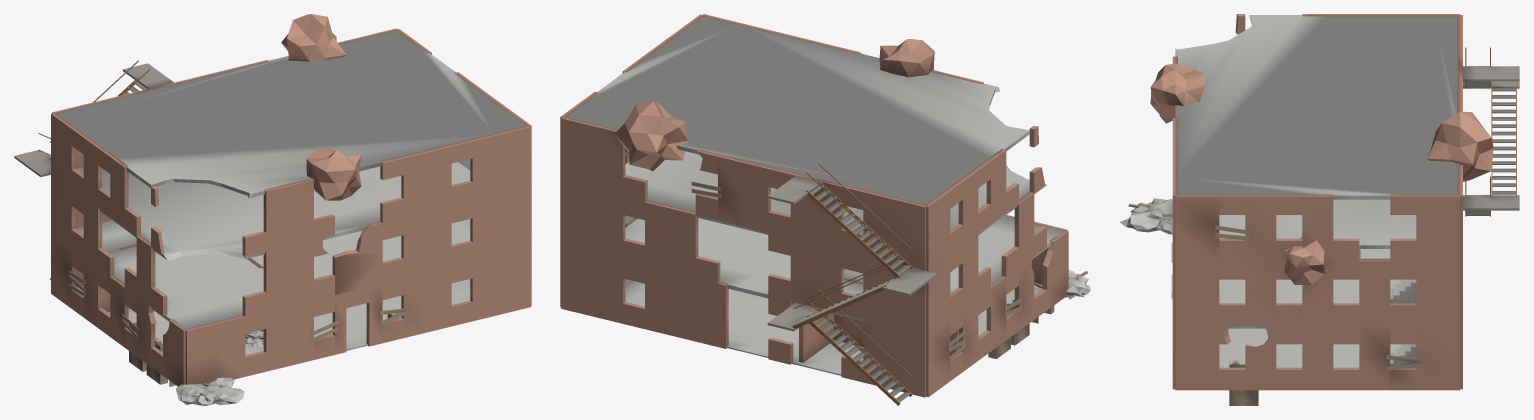
The model's file is predio_r1.glb.
3 views of the same model, side by side, from view 1: azimuth 30°, elevation 25°; view 2: azimuth 150°, elevation 25°; view 3: azimuth 270°, elevation 25° (orthographic). The views are drawn at different scales.
Parts seen in each view (by area): view 1: ext, longe, dentro, detalhe; view 2: ext, longe, dentro, detalhe; view 3: ext, longe, dentro, detalhe, estante_sala1.
Boxes of the visible parts, bbox=[...] form: ext: bbox=[51, 14, 531, 386]; longe: bbox=[38, 31, 525, 280]; dentro: bbox=[76, 159, 470, 355]; detalhe: bbox=[14, 63, 398, 405]; ext: bbox=[560, 14, 1068, 397]; longe: bbox=[566, 16, 1029, 405]; dentro: bbox=[625, 149, 1065, 375]; detalhe: bbox=[767, 175, 1090, 331]; ext: bbox=[1150, 14, 1493, 390]; longe: bbox=[1175, 15, 1516, 216]; dentro: bbox=[1219, 199, 1416, 367]; detalhe: bbox=[1119, 66, 1519, 234]; estante_sala1: bbox=[1229, 360, 1258, 405].
Size of what is drawn, in the model's own units: 19.62 by 11.7 by 16.86.
